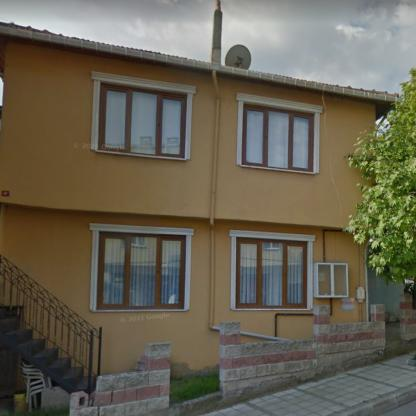window: (99, 82, 187, 157), (97, 234, 185, 308), (240, 104, 316, 171), (237, 238, 306, 309)
